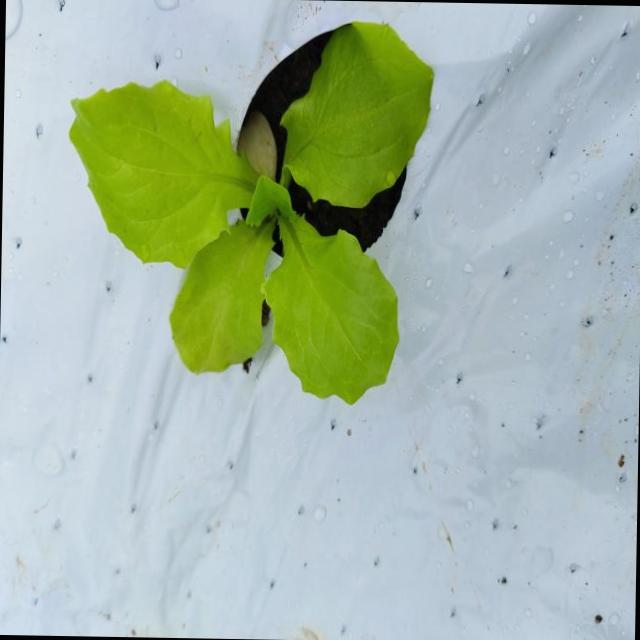Lettuce-Not-Ready-to-Harvest: (69, 23, 431, 402)
